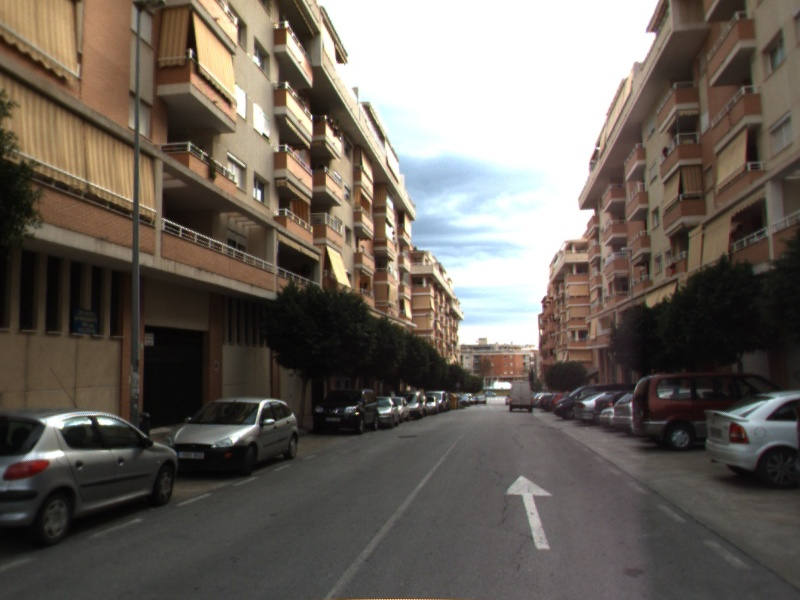STRAIGHT: (501, 473, 555, 551)
